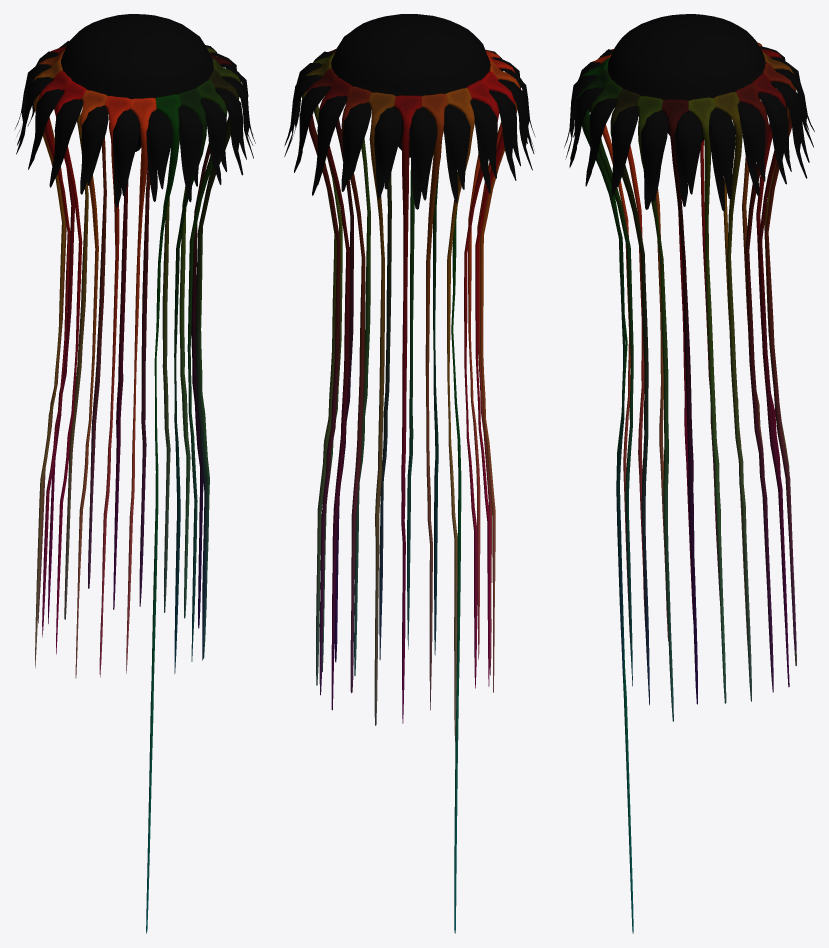
File: scyphozoa.glb
3 renders of one model, left to right at view 1: azimuth 30°, elevation 25°; view 2: azimuth 150°, elevation 25°; view 3: azimuth 270°, elevation 25°, orthographic. The views are drawn at different scales.
Parts seen in each view (by area): view 1: AtollaJelly; view 2: AtollaJelly; view 3: AtollaJelly.
Boxes of the visible parts, bbox=[...] form: AtollaJelly: bbox=[14, 14, 255, 933]; AtollaJelly: bbox=[284, 14, 535, 933]; AtollaJelly: bbox=[564, 14, 814, 933].
Size of the model in its own units: 1.64 by 6.61 by 1.64.
Materials: 1 (1 with a texture image).
